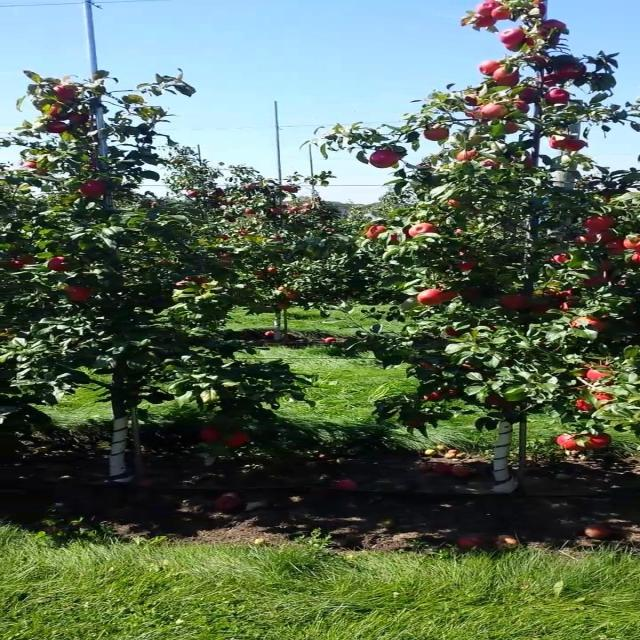apple: (369, 149, 400, 168), (491, 66, 520, 86), (582, 215, 616, 232), (0, 254, 36, 269), (416, 289, 447, 306), (556, 62, 587, 79), (569, 316, 604, 331), (78, 180, 107, 198), (588, 365, 614, 385), (573, 316, 607, 331), (480, 102, 509, 119), (407, 222, 438, 237), (64, 285, 91, 302), (556, 434, 582, 451), (544, 88, 571, 104), (500, 35, 527, 51), (580, 230, 612, 243), (498, 28, 524, 44), (173, 276, 207, 288), (422, 126, 449, 141), (584, 434, 611, 449), (9, 254, 36, 269), (224, 431, 249, 447), (53, 85, 78, 101), (476, 0, 500, 16), (500, 295, 527, 309), (484, 394, 511, 408), (0, 256, 29, 269), (604, 239, 627, 255), (47, 256, 71, 271), (478, 60, 500, 76), (22, 161, 47, 175), (524, 52, 549, 66), (582, 276, 611, 288), (542, 19, 567, 32), (584, 369, 611, 381), (364, 225, 387, 239), (200, 426, 220, 442), (44, 102, 62, 119), (491, 5, 511, 20), (564, 139, 589, 151), (549, 135, 569, 150), (473, 14, 496, 27), (622, 235, 638, 253), (594, 230, 618, 242), (529, 0, 547, 16), (622, 234, 640, 250), (67, 112, 89, 125), (576, 231, 598, 244), (518, 88, 538, 102), (47, 121, 69, 133), (460, 288, 482, 300), (542, 72, 562, 85), (572, 232, 591, 245), (456, 260, 478, 271), (456, 150, 478, 161), (422, 390, 444, 401), (404, 416, 424, 428), (551, 252, 571, 264), (502, 121, 520, 134), (464, 106, 482, 119), (533, 25, 551, 38), (173, 278, 196, 288), (529, 304, 551, 314), (553, 288, 573, 299), (594, 391, 613, 402), (576, 399, 593, 411), (513, 100, 529, 112), (522, 155, 536, 168), (480, 159, 500, 168), (444, 388, 462, 398), (442, 290, 458, 301), (464, 94, 478, 106), (444, 328, 462, 337), (560, 301, 576, 311), (600, 259, 613, 271), (447, 199, 462, 208), (469, 134, 484, 143), (461, 361, 476, 369), (389, 232, 398, 244), (420, 361, 433, 369)
